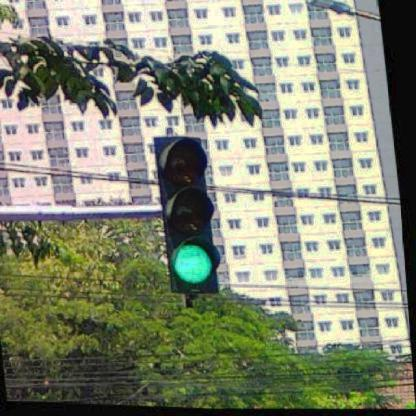Traffic Light -Green-: (155, 134, 228, 298)
